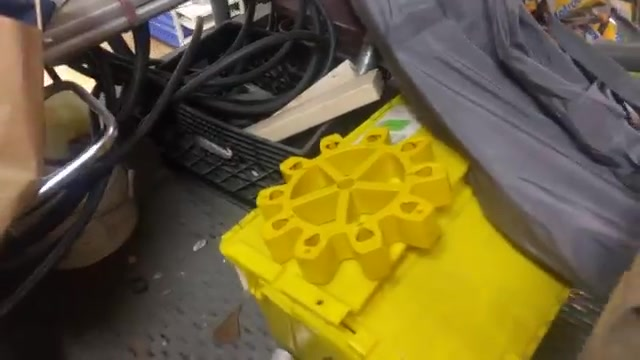gear: (247, 117, 462, 283)
